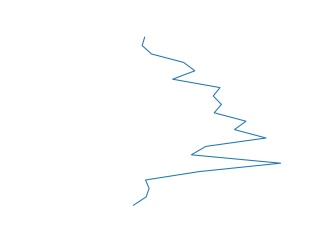floodSwamp: (131, 36, 284, 208)
